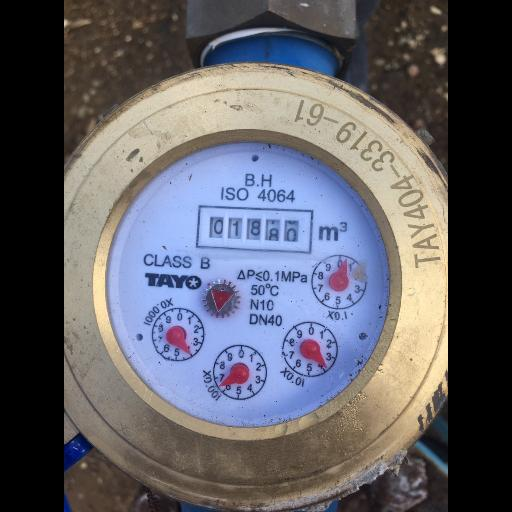0: (283, 220, 299, 242), (210, 216, 224, 239)
1: (229, 217, 242, 239)
7: (265, 219, 279, 241)
8: (247, 218, 261, 240)
border_water_meter_number: (196, 204, 314, 255)
